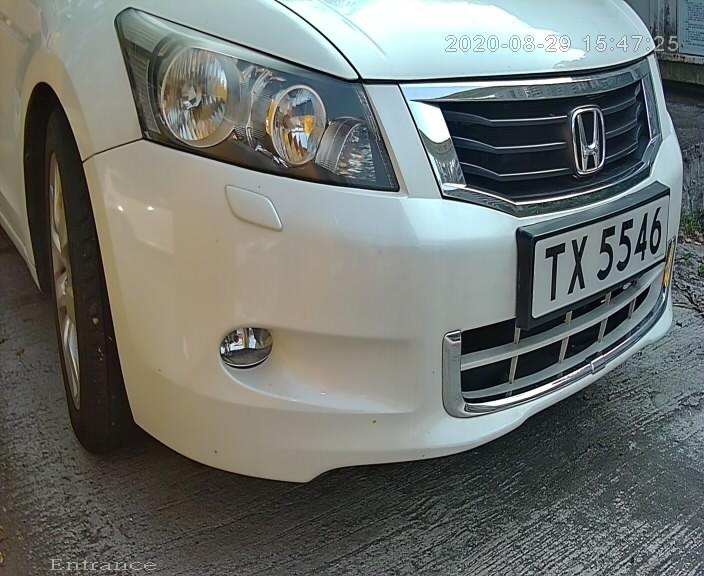License Plate: (506, 162, 678, 339)
